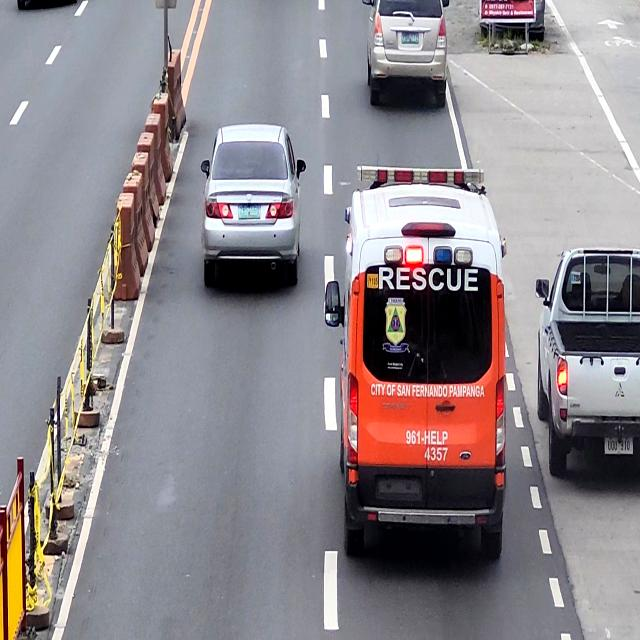Car: (327, 163, 508, 561), (535, 247, 640, 479), (200, 125, 304, 288), (362, 0, 451, 112)
License-Plate: (605, 438, 634, 454), (238, 203, 261, 220), (402, 31, 419, 44)
